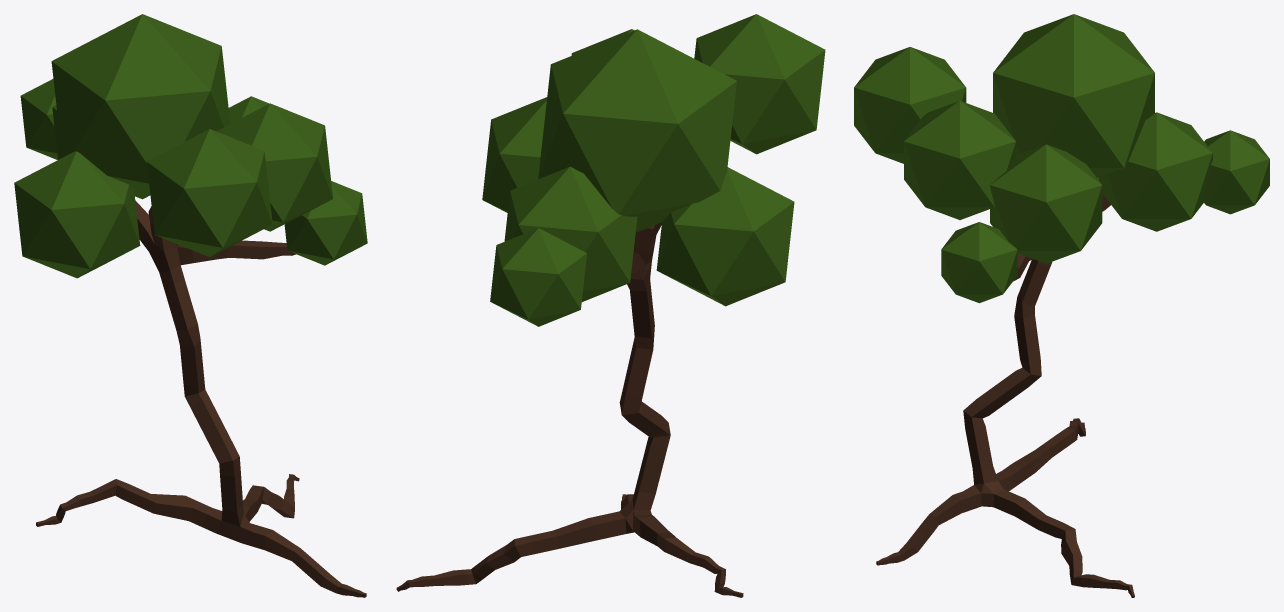
The model's file is treevariant_3.fbx.
3 views of the same model, side by side, from view 1: azimuth 30°, elevation 25°; view 2: azimuth 150°, elevation 25°; view 3: azimuth 270°, elevation 25° (orthographic). The views are drawn at different scales.
Parts seen in each view (by area): view 1: Plane.004, Plane.002; view 2: Plane.004, Plane.002; view 3: Plane.004, Plane.002.
Part boxes in pixels (x1=…): Plane.004: x1=14, y1=14, x2=367, y2=278; Plane.002: x1=36, y1=200, x2=366, y2=597; Plane.004: x1=482, y1=14, x2=825, y2=326; Plane.002: x1=396, y1=222, x2=743, y2=597; Plane.004: x1=854, y1=14, x2=1269, y2=303; Plane.002: x1=876, y1=194, x2=1134, y2=597.
Size of the model in its own units: 273 by 446 by 334.
Materials: 2 (2 with a texture image).
